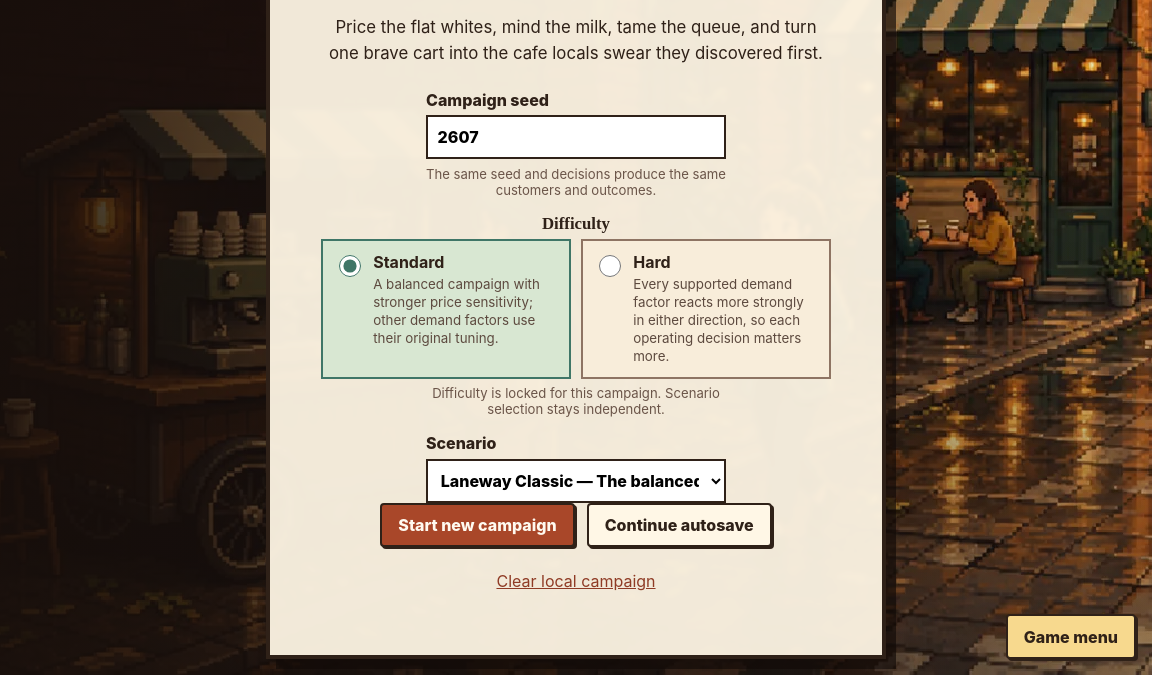
Test: playable cart UI › shows every exact live stock item with active ingredients first
(page scrolled)
Click the button "Continue autosave" at (679,525), box [587,503,772,548]
(page scrolled)
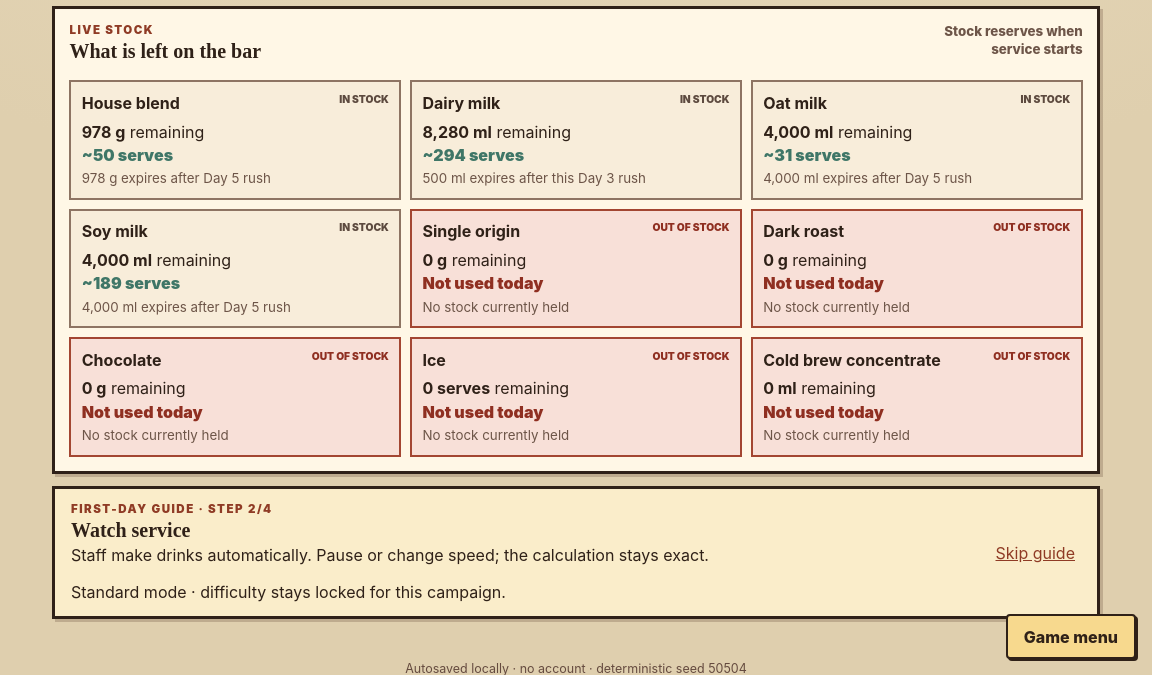
Result: the text "8,500 ml" is shown at [422,122,492,142]
Result: the list item that starts with "Dairy milk" shows "500 ml expires after this Day 3 rush" at [422,170,646,186]
Result: the list item that starts with "Chocolate" shows "0 g remaining" at [69,337,401,457]
